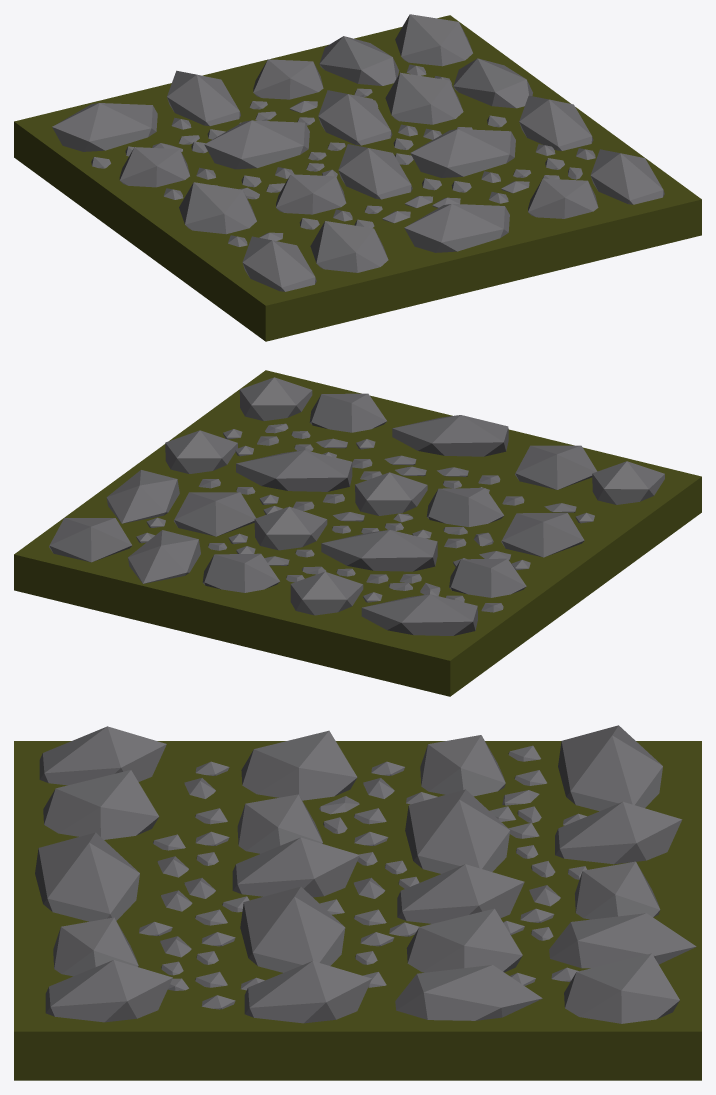
File: Piso de piedras.fbx
3 views of the same model, one above another, from view 1: azimuth 30°, elevation 25°; view 2: azimuth 150°, elevation 25°; view 3: azimuth 270°, elevation 25° (orthographic). The views are drawn at different scales.
Parts seen in each view (by area): view 1: pPlatonic81; view 2: pPlatonic81; view 3: pPlatonic81.
Part boxes in pixels (<box>): pPlatonic81: <box>14,14,701,341</box>; pPlatonic81: <box>14,370,701,696</box>; pPlatonic81: <box>14,725,701,1080</box>.
Size of the model in its own units: 3 by 0.4548 by 3.
